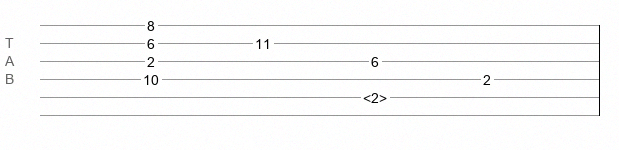10: (143, 72, 159, 82)
11: (255, 36, 271, 46)
2: (147, 54, 155, 64), (483, 72, 491, 82)
6: (147, 36, 155, 46), (371, 54, 379, 64)
8: (147, 18, 155, 28)
harmonic: (363, 90, 387, 100)
